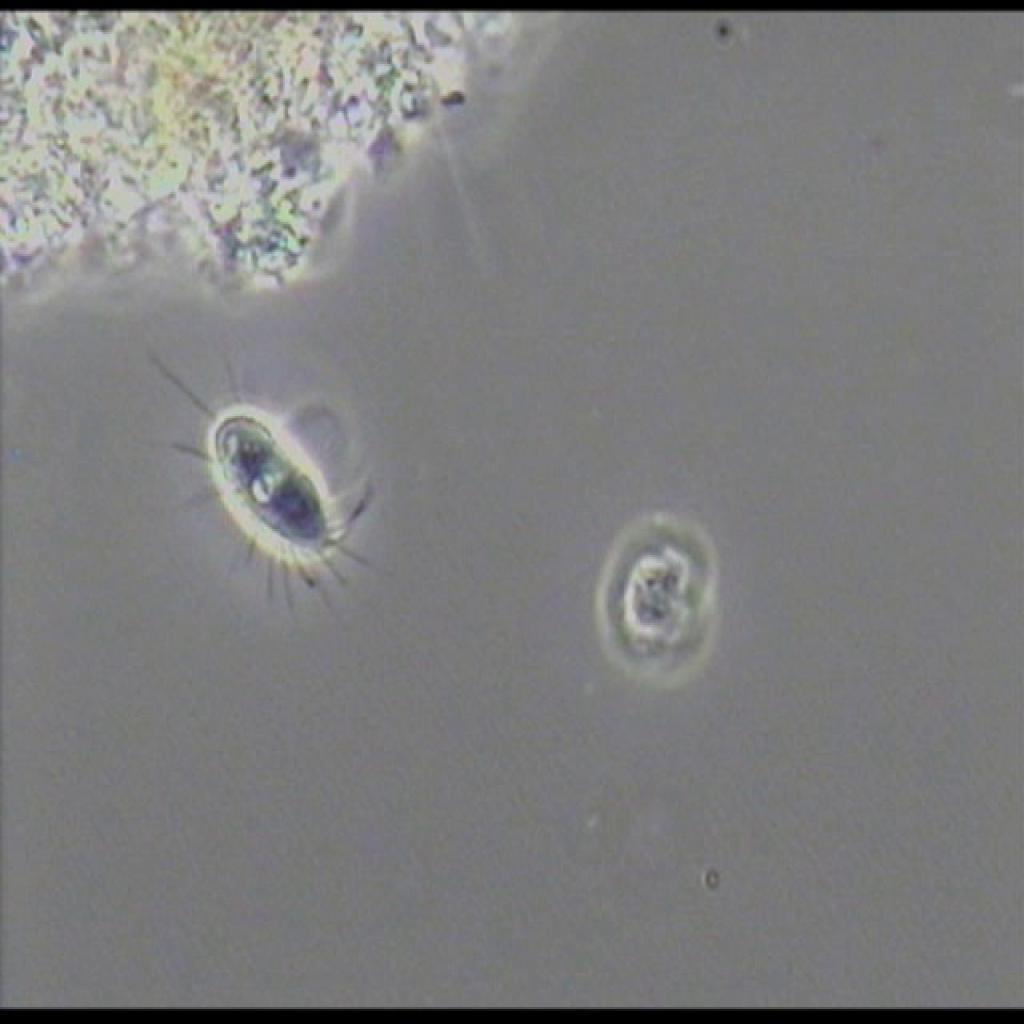Cyclidium: (128, 341, 389, 625)
